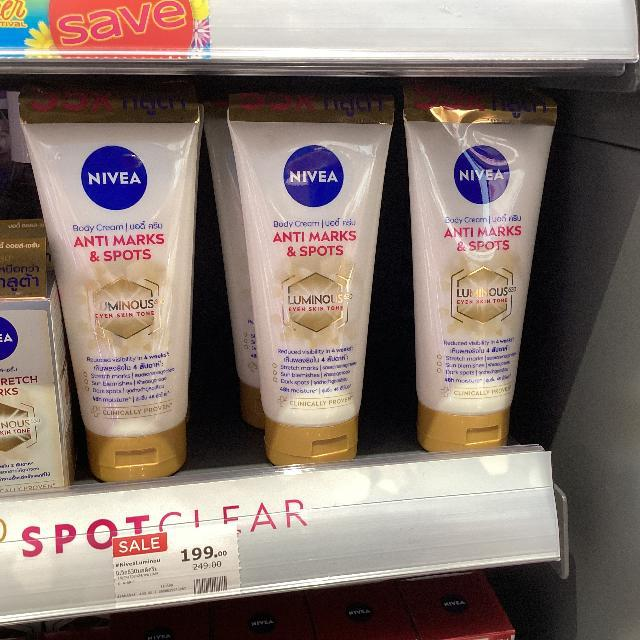Squeeze Tube: (220, 82, 400, 480), (16, 101, 203, 466), (398, 82, 563, 468)
